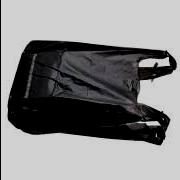Plastic: (2, 37, 179, 148)
